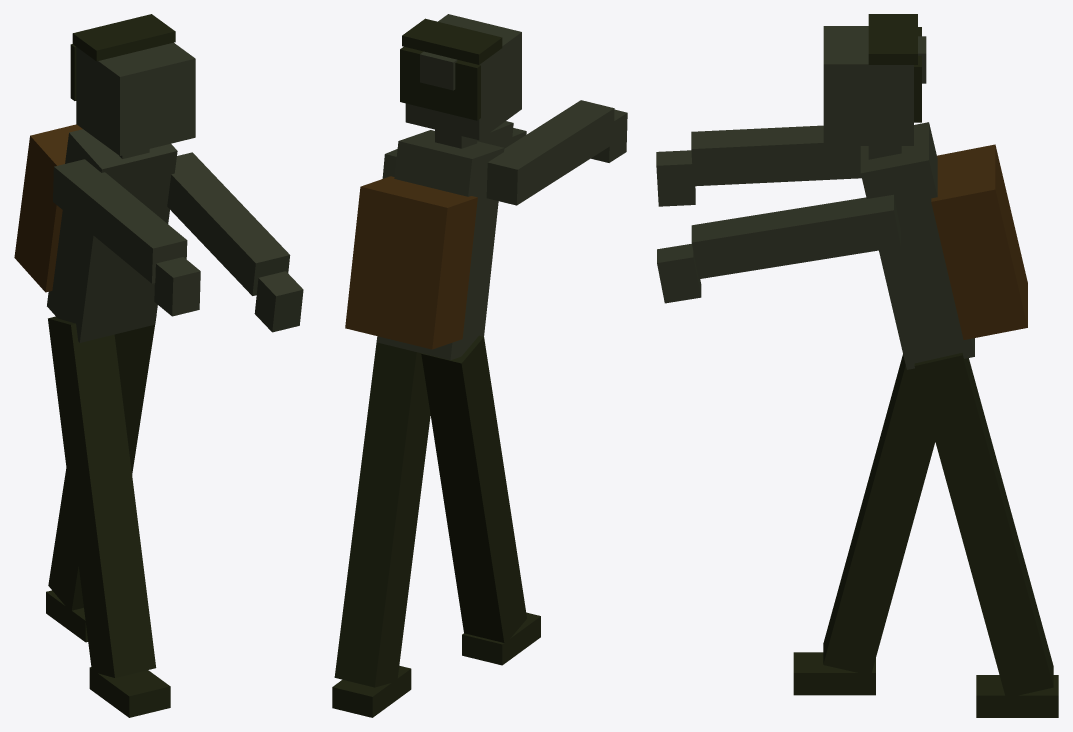
The model's file is SM_ZombiFino_v1_Mochila_LOD1.fbx.
3 renders of one model, left to right at view 1: azimuth 30°, elevation 25°; view 2: azimuth 150°, elevation 25°; view 3: azimuth 270°, elevation 25°, orthographic. The views are drawn at different scales.
Visible parts, largest first — view 1: SM_zombi_fino_v1_LOD1; view 2: SM_zombi_fino_v1_LOD1; view 3: SM_zombi_fino_v1_LOD1.
Part boxes in pixels (box(x1,y1,x2,y2)): SM_zombi_fino_v1_LOD1: box(14, 14, 303, 717); SM_zombi_fino_v1_LOD1: box(332, 14, 627, 717); SM_zombi_fino_v1_LOD1: box(656, 14, 1058, 717).
Bounding box in the file's own units: 0.4 × 1.78 × 0.9796.
